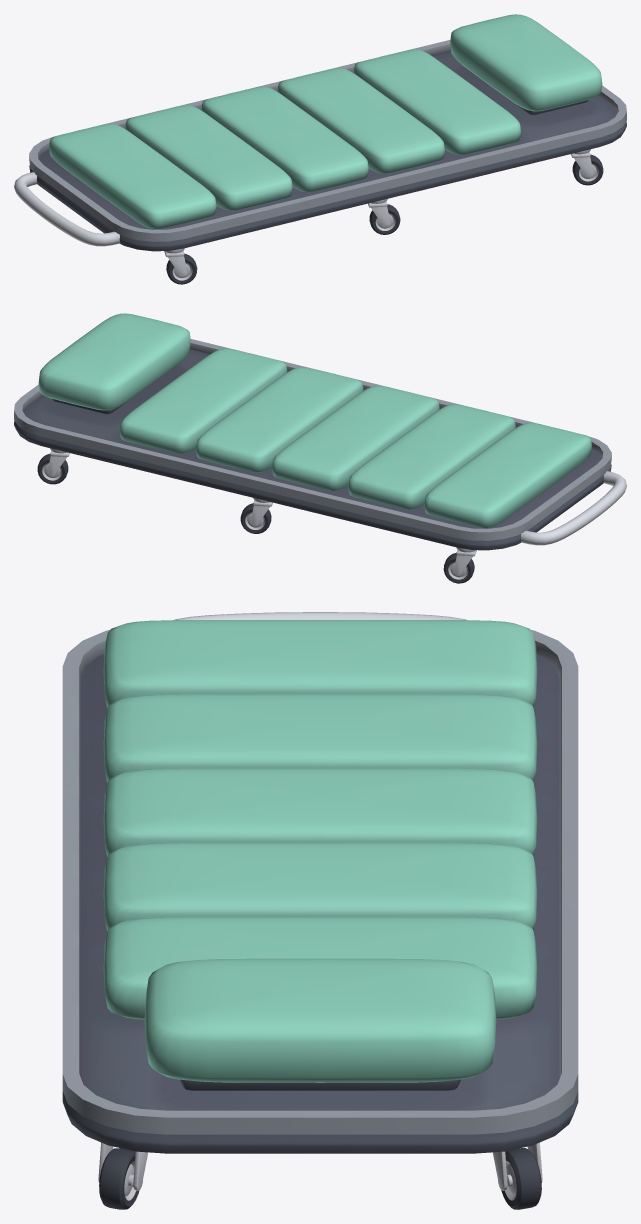
File: mechanic-creeper.glb
3 renders of one model, top to bottom at view 1: azimuth 30°, elevation 25°; view 2: azimuth 150°, elevation 25°; view 3: azimuth 270°, elevation 25°, orthographic. The views are drawn at different scales.
Visible parts, largest first — view 1: mechanic-creeper_body; view 2: mechanic-creeper_body; view 3: mechanic-creeper_body.
Part boxes in pixels (x1=…): mechanic-creeper_body: x1=14, y1=14, x2=626, y2=284; mechanic-creeper_body: x1=14, y1=313, x2=626, y2=583; mechanic-creeper_body: x1=62, y1=612, x2=578, y2=1209.
Size of the model in its own units: 1.06 by 0.195 by 0.44.
Materials: 1 (1 with a texture image).
